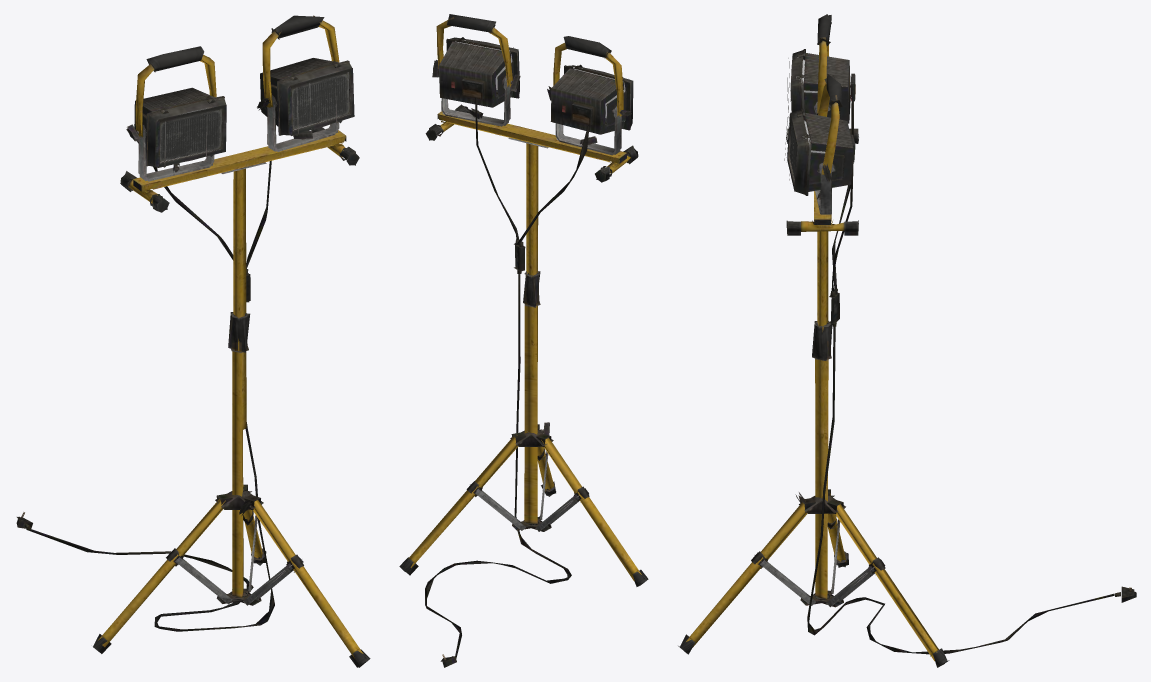
Rendered from floodlight.glb.
3 renders of one model, left to right at view 1: azimuth 30°, elevation 25°; view 2: azimuth 150°, elevation 25°; view 3: azimuth 270°, elevation 25°, orthographic. The views are drawn at different scales.
Visible parts, largest first — view 1: floodlight; view 2: floodlight; view 3: floodlight.
Part boxes in pixels (x1,y1,x2,y2): floodlight: (16,15,370,667); floodlight: (399,14,648,667); floodlight: (678,14,1136,667).
Bounding box in the file's own units: 0.7813 × 1.79 × 1.29.
Materials: 2 (2 with a texture image).
